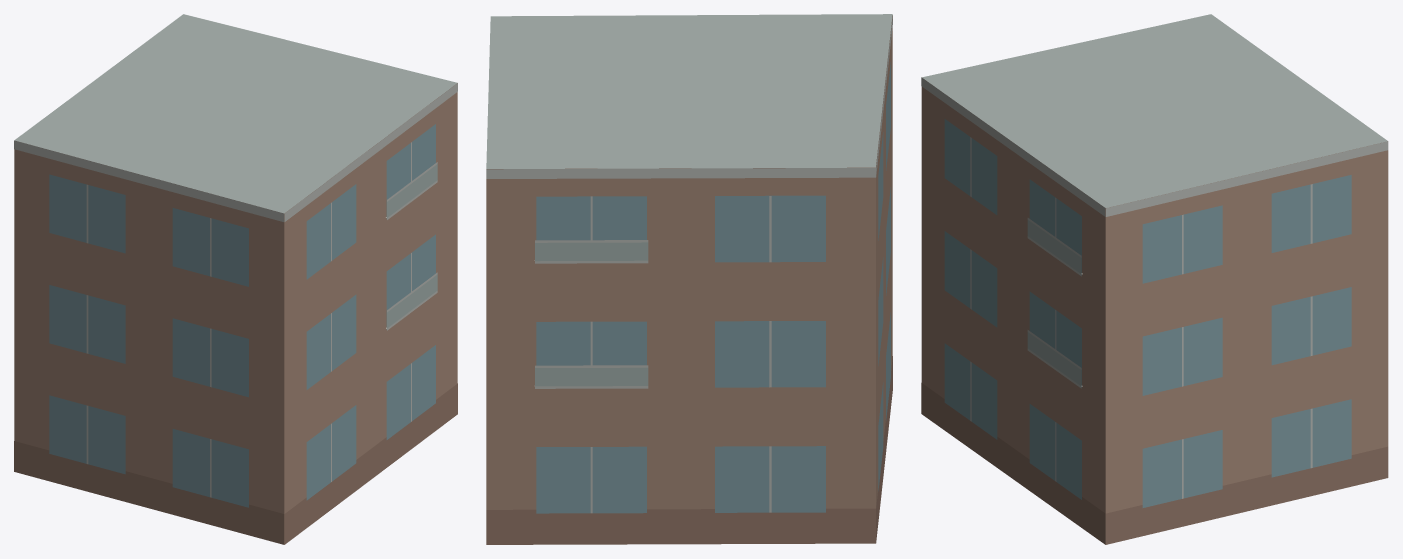
Rendered from survey-upis-32881529.glb.
3 views of the same model, side by side, from view 1: azimuth 30°, elevation 25°; view 2: azimuth 150°, elevation 25°; view 3: azimuth 270°, elevation 25° (orthographic). The views are drawn at different scales.
Visible parts, largest first — view 1: survey-upis-32881529.tmp; view 2: survey-upis-32881529.tmp; view 3: survey-upis-32881529.tmp.
Part boxes in pixels (x1=…): survey-upis-32881529.tmp: x1=14, y1=14, x2=457, y2=544; survey-upis-32881529.tmp: x1=486, y1=14, x2=892, y2=544; survey-upis-32881529.tmp: x1=921, y1=14, x2=1388, y2=544.
Size of the model in its own units: 11.33 by 9.15 by 11.5.
